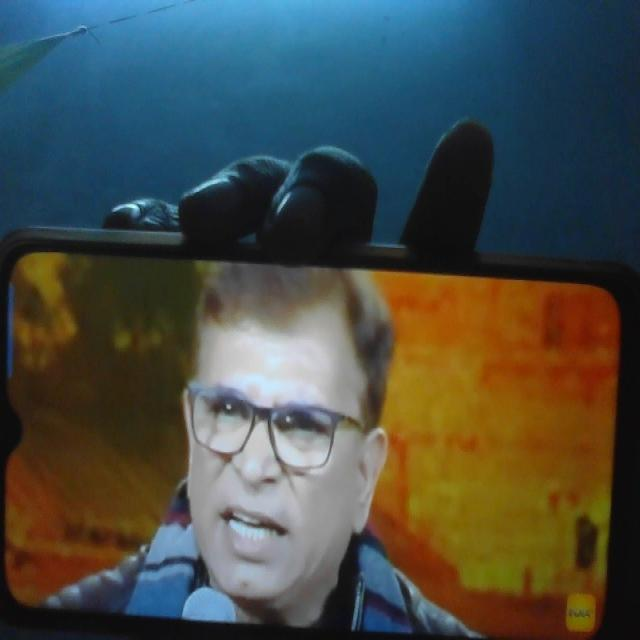fake: (170, 218, 386, 626)
